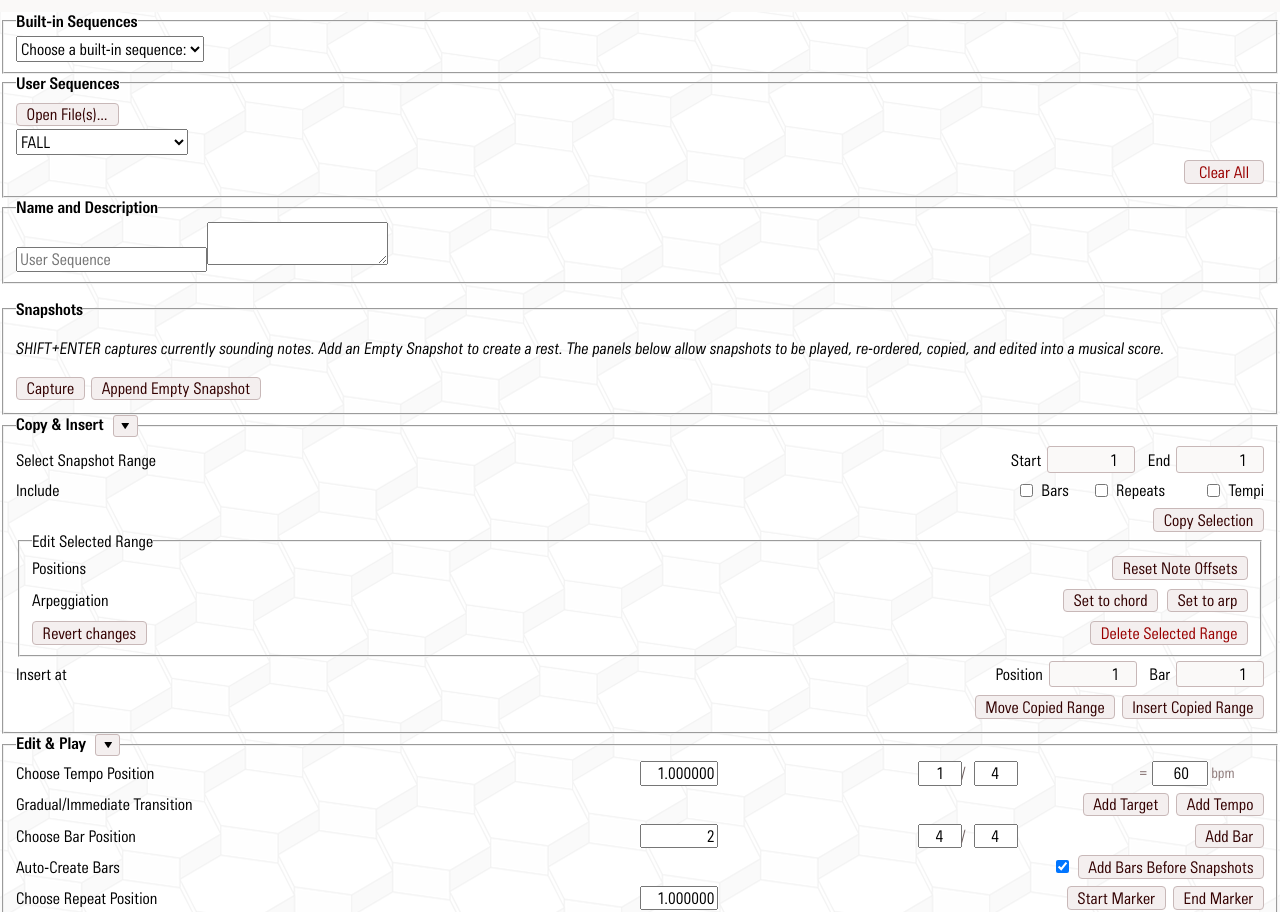
it: Sequencer › renders imported bar signatures correctly after selecting a stored sequence from a fresh state
Select "FALL" in the dropdown named "User sequences" at [102, 142], box [16,129,188,155]
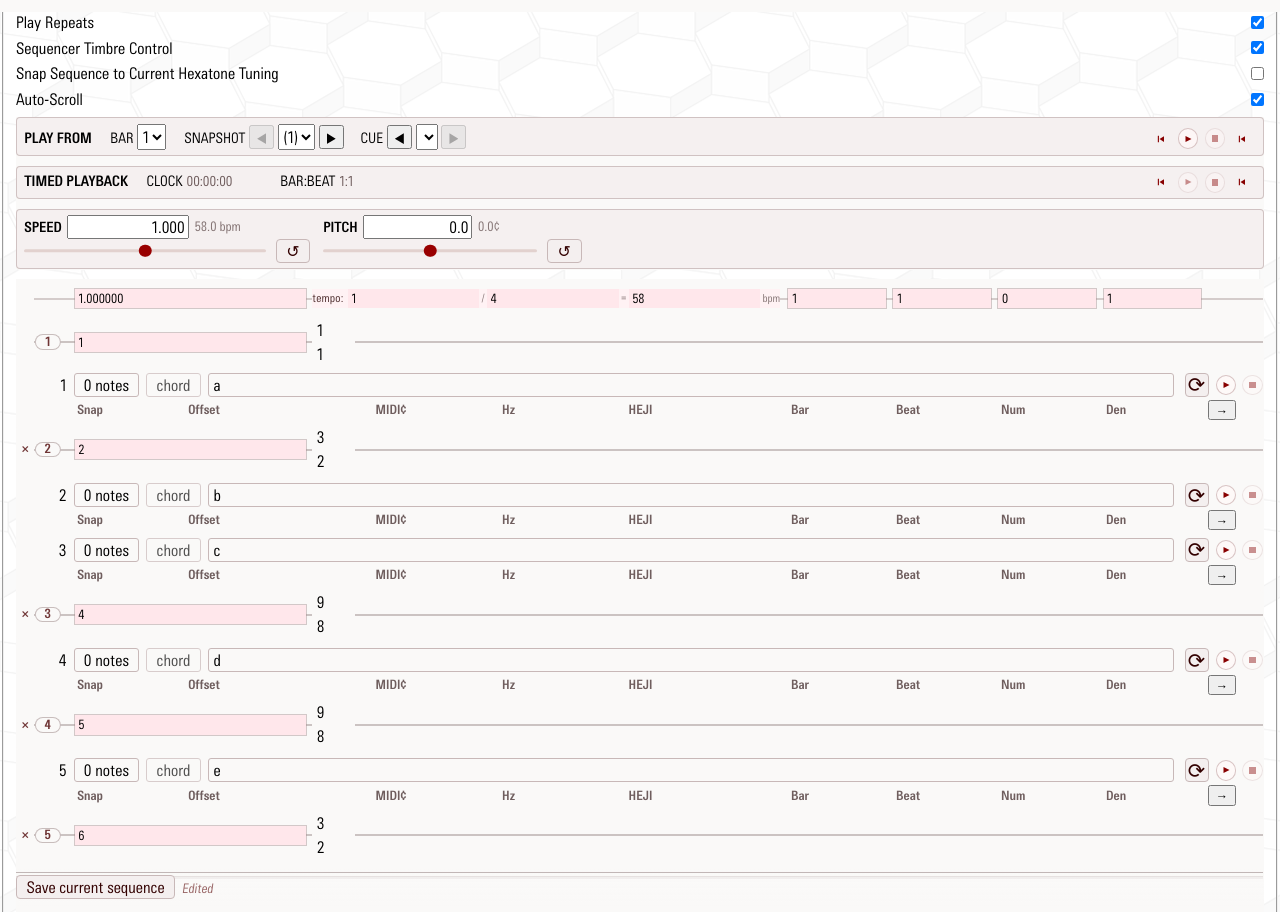
Result: the number field named "bar 1 beats per bar" holds "1" at [312,318,356,342]
Result: the number field named "bar 1 beat unit" holds "1" at [312,342,356,366]
Result: the number field named "bar 2 beats per bar" holds "3" at [312,426,356,450]
